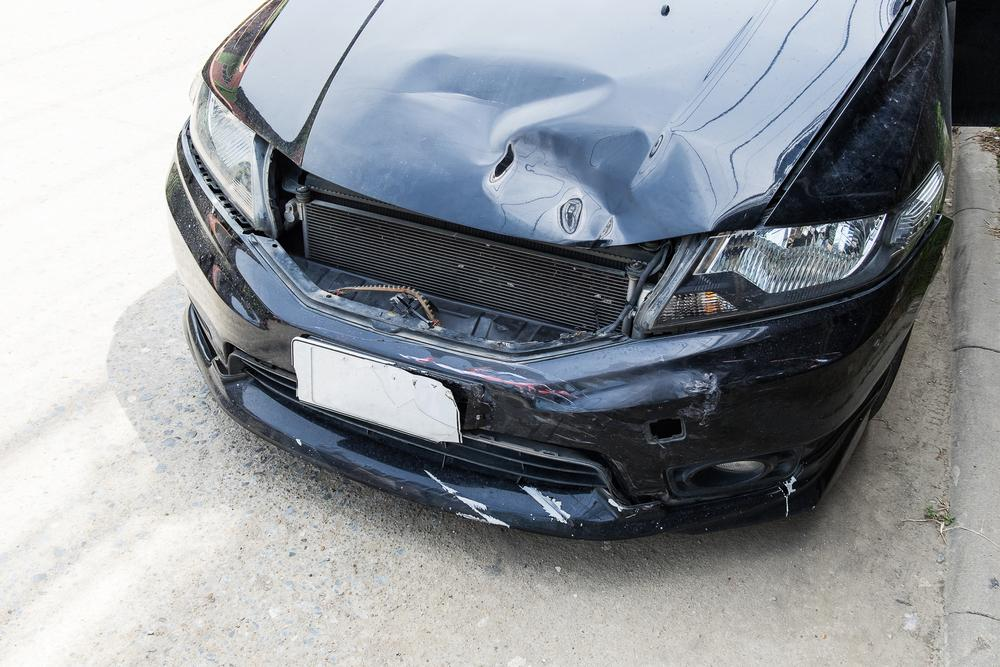dent: (387, 50, 710, 241)
scratch: (396, 353, 609, 447), (421, 468, 516, 529), (521, 481, 576, 527)
